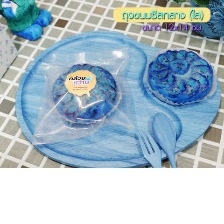snack: (27, 41, 142, 148)
